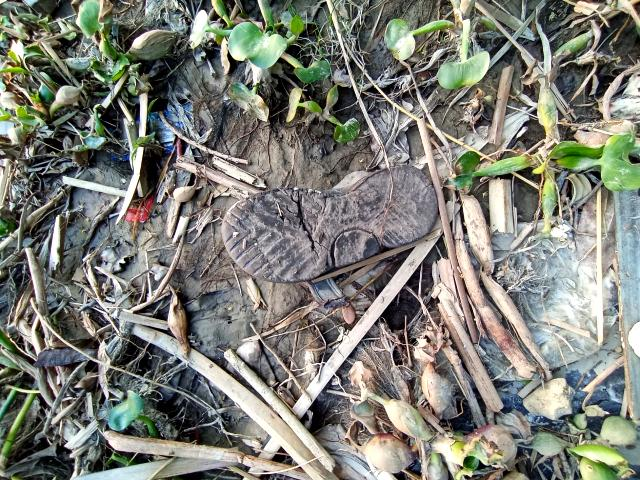sandal: (211, 133, 456, 289)
